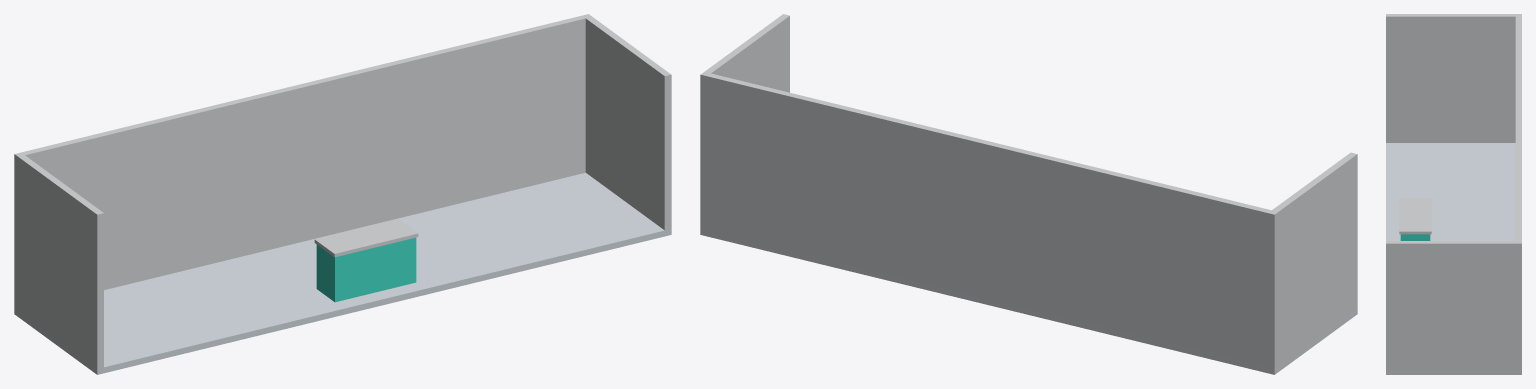
The picture shows the model from 3 angles, left to right: view 1: azimuth 30°, elevation 25°; view 2: azimuth 150°, elevation 25°; view 3: azimuth 270°, elevation 25°; orthographic projection. The views are drawn at different scales.
Visible parts, largest first — view 1: Exhibition Booth Concept; view 2: Exhibition Booth Concept; view 3: Exhibition Booth Concept.
Boxes of the visible parts, x1,y1,x2,y2 form: Exhibition Booth Concept: (14, 14, 671, 374); Exhibition Booth Concept: (700, 14, 1357, 374); Exhibition Booth Concept: (1386, 14, 1521, 374).
Bounding box in the file's own units: 12 × 3.2 × 3.
